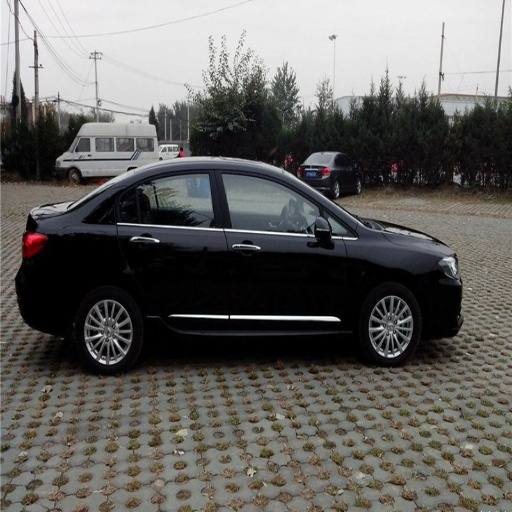back_right_door: (117, 167, 230, 332)
front_right_door: (222, 166, 347, 329)
